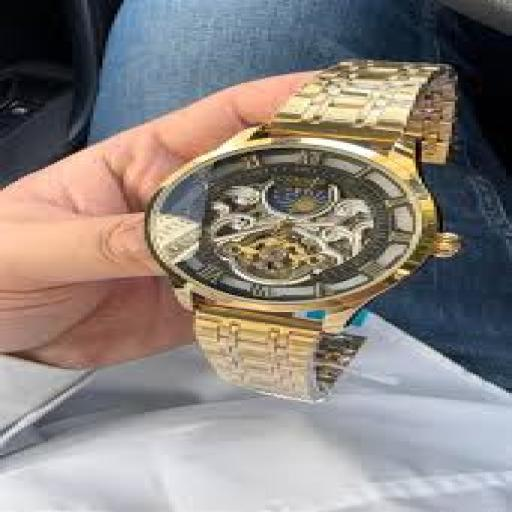KolSaati: (79, 25, 499, 438)
